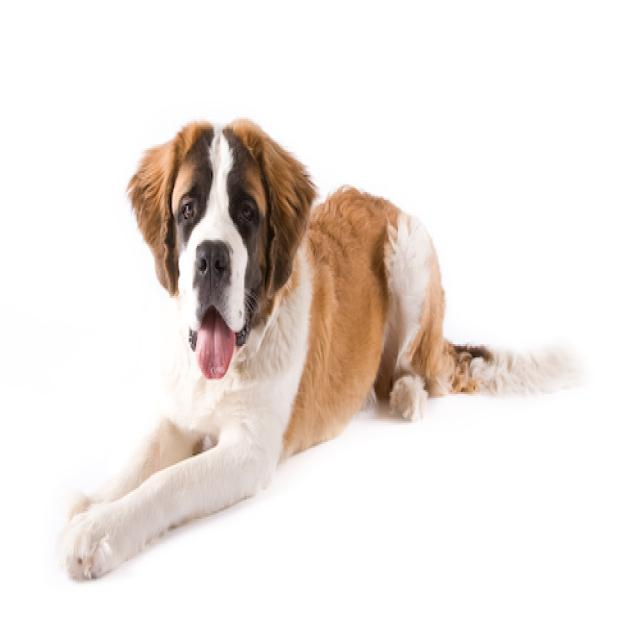dog-saint_bernard: (55, 111, 582, 590)
